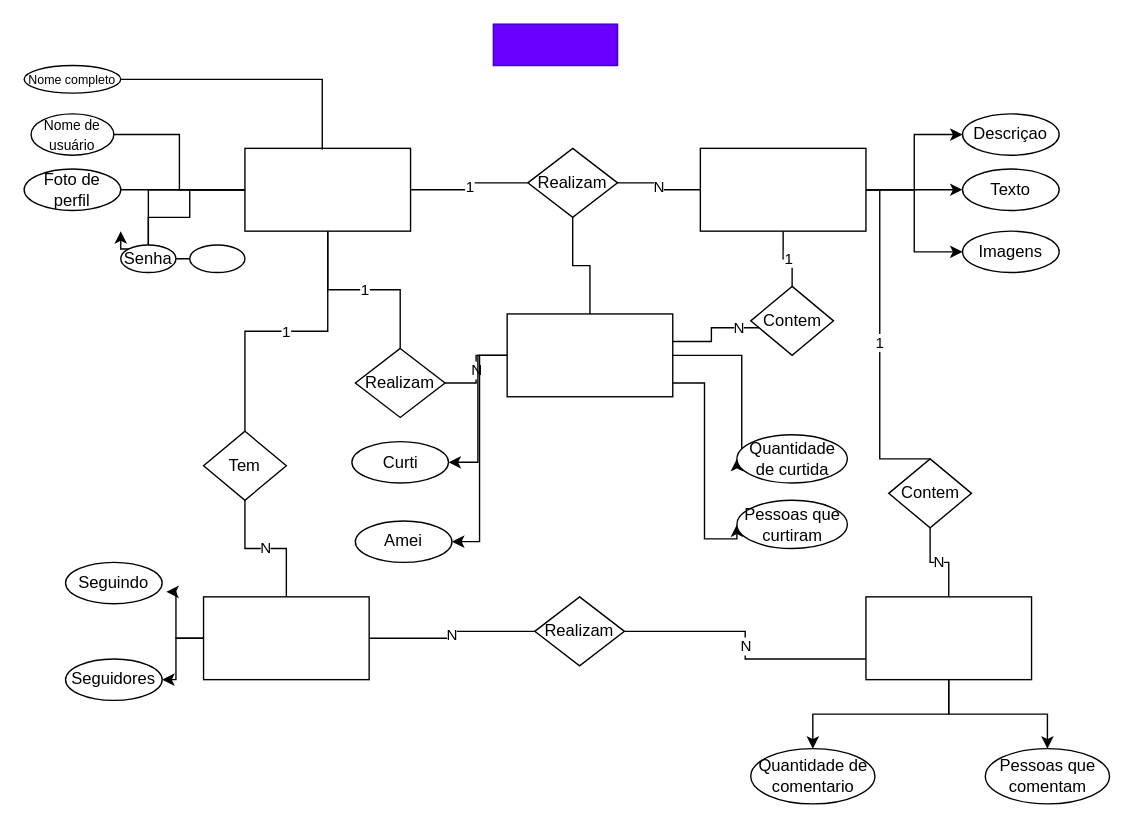
The diagram is 1134 pixels wide and 828 high, and some of its shapes have lost their labels. The centre of each missing label's shape, as x and y in pixels:
Comentario: (948,637)
Curtida: (589,355)
Devcoonect: (555,44)
Email: (216,258)
Postagem: (782,189)
Seguidor: (285,637)
Usuário: (327,189)
